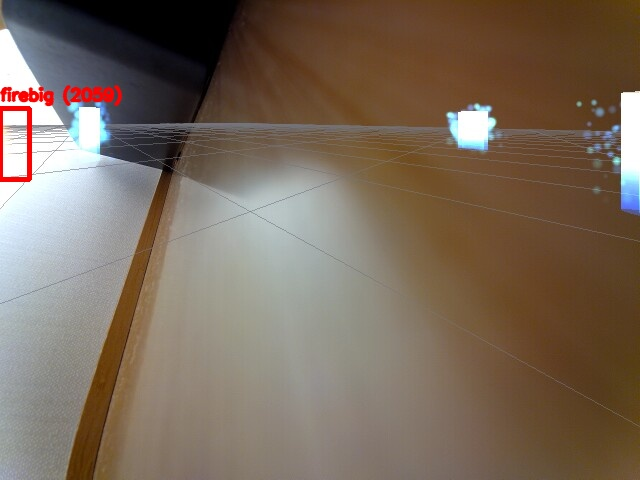firebig: (0, 108, 29, 179)
